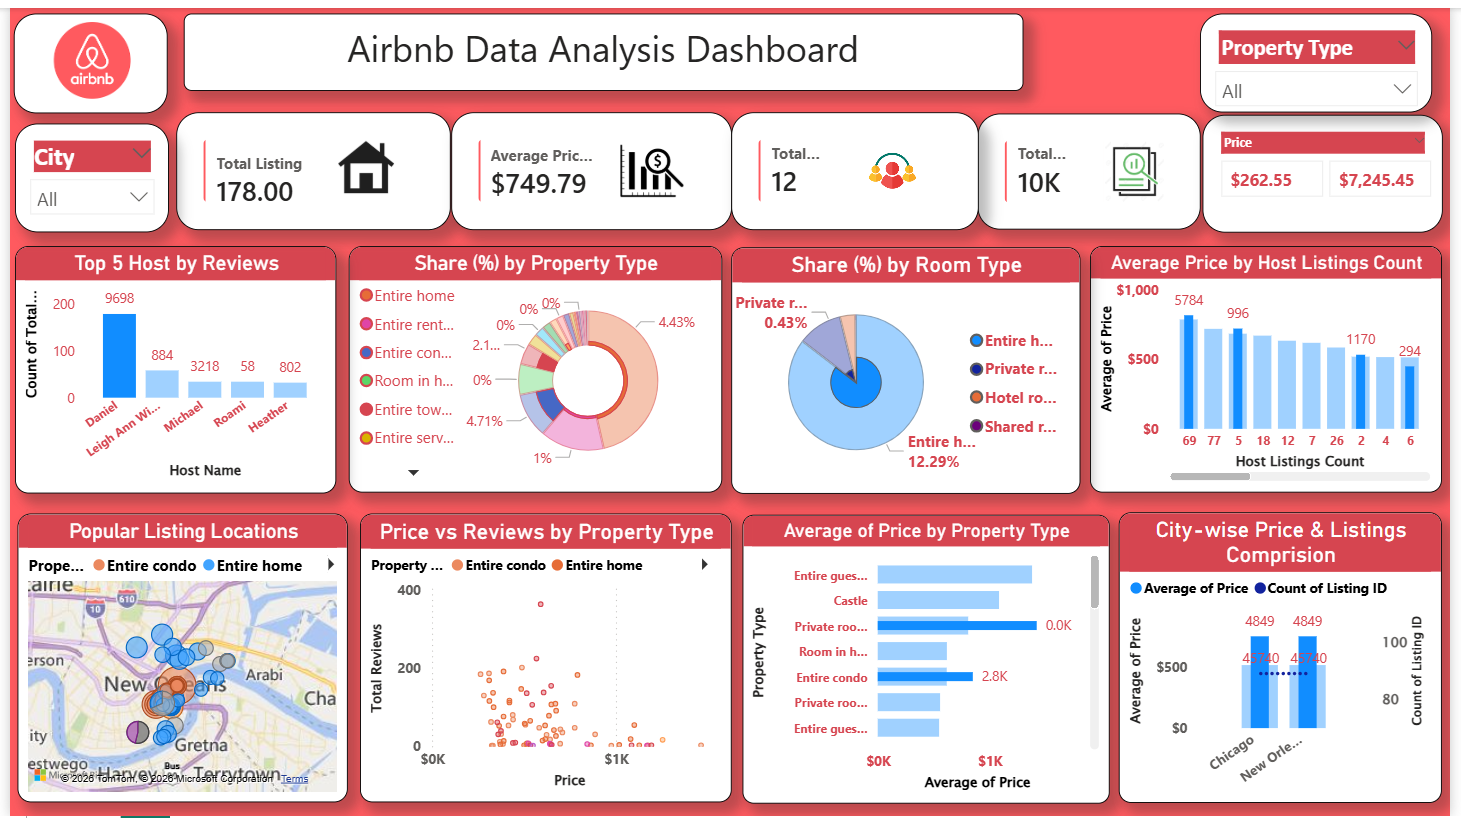

This screenshot's page, from the dashboard's own definition file:
{"tool":"powerbi","page":{"name":"Page 1","canvas":[1280,720],"ordinal":0},"visuals":[{"type":"shape","box":[3.3,6.7,136.9,89.1],"z":0},{"type":"image","box":[6.7,11.1,132.5,74.6],"z":1000},{"type":"textbox","box":[154.6,6.1,746,68.7],"z":2000},{"type":"cardVisual","fields":{"Data":["CountNonNull(airbnb_dashboard_ready_v1.Listing ID)"]},"box":[148.1,94.6,243.8,104.6],"z":3000},{"type":"cardVisual","fields":{"Data":["Avg(airbnb_dashboard_ready_v1.Price)"]},"box":[391.8,94.6,249.4,104.6],"z":4000},{"type":"cardVisual","fields":{"Data":["Sum(airbnb_dashboard_ready_v1.Total Reviews)"]},"box":[860.5,95.7,198.1,103.5],"z":5000},{"type":"cardVisual","fields":{"Data":["Count(airbnb_dashboard_ready_v1.Host Id)"]},"box":[640.7,94.2,219.8,104.7],"z":6000},{"type":"slicer","fields":{"Values":["airbnb_dashboard_ready_v1.City"]},"box":[4.5,104.6,136.9,96.8],"z":7000},{"type":"slicer","fields":{"Values":["airbnb_dashboard_ready_v1.Price"]},"box":[1058.6,94.6,213.7,104.6],"z":8000},{"type":"donutChart","title":"Share (%) by Property Type","fields":{"Category":["airbnb_dashboard_ready_v1.Property Type"],"Y":["CountNonNull(airbnb_dashboard_ready_v1.Listing ID)"]},"box":[300.6,213.7,331.7,219.3],"z":9000},{"type":"columnChart","title":"Top 5 Host by Reviews","fields":{"Category":["airbnb_dashboard_ready_v1.Host Name"],"Y":["CountNonNull(airbnb_dashboard_ready_v1.Total Reviews)"]},"box":[4.9,213.5,285.9,219.6],"z":10000},{"type":"map","title":"Popular Listing Locations","fields":{"Y":["airbnb_dashboard_ready_v1.latitude"],"Series":["airbnb_dashboard_ready_v1.Property Type"],"X":["airbnb_dashboard_ready_v1.longitude"],"Size":["Avg(airbnb_dashboard_ready_v1.Price)"]},"box":[6.7,450.8,293.9,257.1],"z":11000},{"type":"scatterChart","title":" Price vs Reviews by Property Type","fields":{"X":["airbnb_dashboard_ready_v1.Price"],"Y":["airbnb_dashboard_ready_v1.Total Reviews"],"Series":["airbnb_dashboard_ready_v1.Property Type"]},"box":[310.6,450.8,330.6,257.1],"z":12000},{"type":"columnChart","title":"Average Price by Host Listings Count","fields":{"Category":["airbnb_dashboard_ready_v1.Host Listings Count"],"Y":["Avg(airbnb_dashboard_ready_v1.Price)"]},"box":[959.6,213.7,312.8,219.3],"z":13000},{"type":"pieChart","title":"Share (%) by Room Type","fields":{"Category":["airbnb_dashboard_ready_v1.Room Type"],"Y":["CountNonNull(airbnb_dashboard_ready_v1.Listing ID)"]},"box":[641.2,214.8,310.6,219.3],"z":14000},{"type":"slicer","fields":{"Values":["airbnb_dashboard_ready_v1.Property Type"]},"box":[1069.8,0,194.8,85.7],"z":15000},{"type":"clusteredBarChart","fields":{"Category":["airbnb_dashboard_ready_v1.Property Type"],"Y":["Avg(airbnb_dashboard_ready_v1.Price)"]},"box":[651.2,452,326.2,257.1],"z":16000},{"type":"lineStackedColumnComboChart","title":"City-wise Price & Listings Comprision","fields":{"Category":["airbnb_dashboard_ready_v1.City"],"Y":["Avg(airbnb_dashboard_ready_v1.Price)"],"Y2":["CountNonNull(airbnb_dashboard_ready_v1.Listing ID)"]},"box":[985.2,449.7,287.2,258.3],"z":17000}]}

Visuals, with their boxes in screenshot pixels (x1, y1, x2, y2), scaled from the page's 1280x720 canvas onto the 1461x818 screenshot:
shape: (x1=4, y1=8, x2=160, y2=109)
image: (x1=8, y1=13, x2=159, y2=97)
textbox: (x1=176, y1=7, x2=1028, y2=85)
cardVisual - CountNonNull(airbnb_dashboard_ready_v1.Listing ID): (x1=169, y1=107, x2=447, y2=226)
cardVisual - Avg(airbnb_dashboard_ready_v1.Price): (x1=447, y1=107, x2=732, y2=226)
cardVisual - Sum(airbnb_dashboard_ready_v1.Total Reviews): (x1=982, y1=109, x2=1208, y2=226)
cardVisual - Count(airbnb_dashboard_ready_v1.Host Id): (x1=731, y1=107, x2=982, y2=226)
slicer - airbnb_dashboard_ready_v1.City: (x1=5, y1=119, x2=161, y2=229)
slicer - airbnb_dashboard_ready_v1.Price: (x1=1208, y1=107, x2=1452, y2=226)
"Share (%) by Property Type" donutChart: (x1=343, y1=243, x2=722, y2=492)
"Top 5 Host by Reviews" columnChart: (x1=6, y1=243, x2=332, y2=492)
"Popular Listing Locations" map: (x1=8, y1=512, x2=343, y2=804)
" Price vs Reviews by Property Type" scatterChart: (x1=355, y1=512, x2=732, y2=804)
"Average Price by Host Listings Count" columnChart: (x1=1095, y1=243, x2=1452, y2=492)
"Share (%) by Room Type" pieChart: (x1=732, y1=244, x2=1086, y2=493)
slicer - airbnb_dashboard_ready_v1.Property Type: (x1=1221, y1=0, x2=1443, y2=97)
clusteredBarChart - airbnb_dashboard_ready_v1.Property Type x Avg(airbnb_dashboard_ready_v1.Price): (x1=743, y1=514, x2=1116, y2=806)
"City-wise Price & Listings Comprision" lineStackedColumnComboChart: (x1=1125, y1=511, x2=1452, y2=804)
